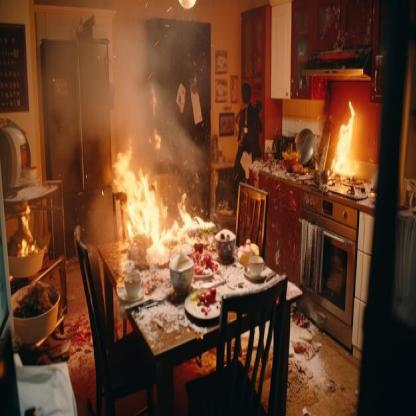fire: (112, 156, 223, 249), (319, 89, 369, 177)
smoke: (36, 0, 215, 185)
